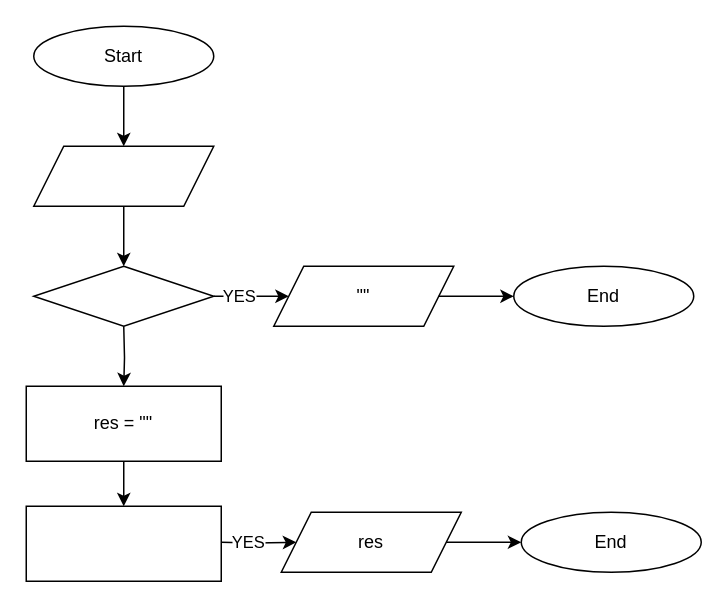
Some shapes in this 728 by 608 pixel diagram are drawn without their labels. The centre of each missing label's shape, as x and y in pixels:
Concatenate into res the square power of each digit of n: the point at 123,543
N <= 0: the point at 123,295
n: int: the point at 123,175
